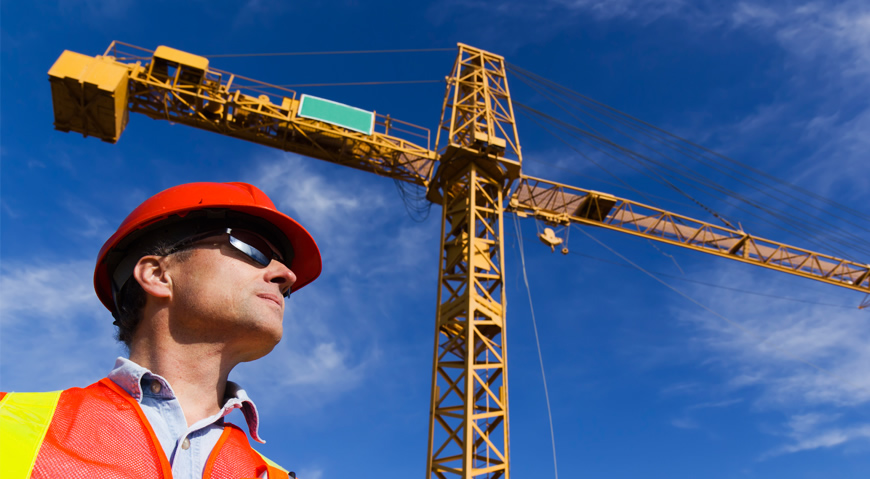crane-operator: (78, 185, 369, 389)
